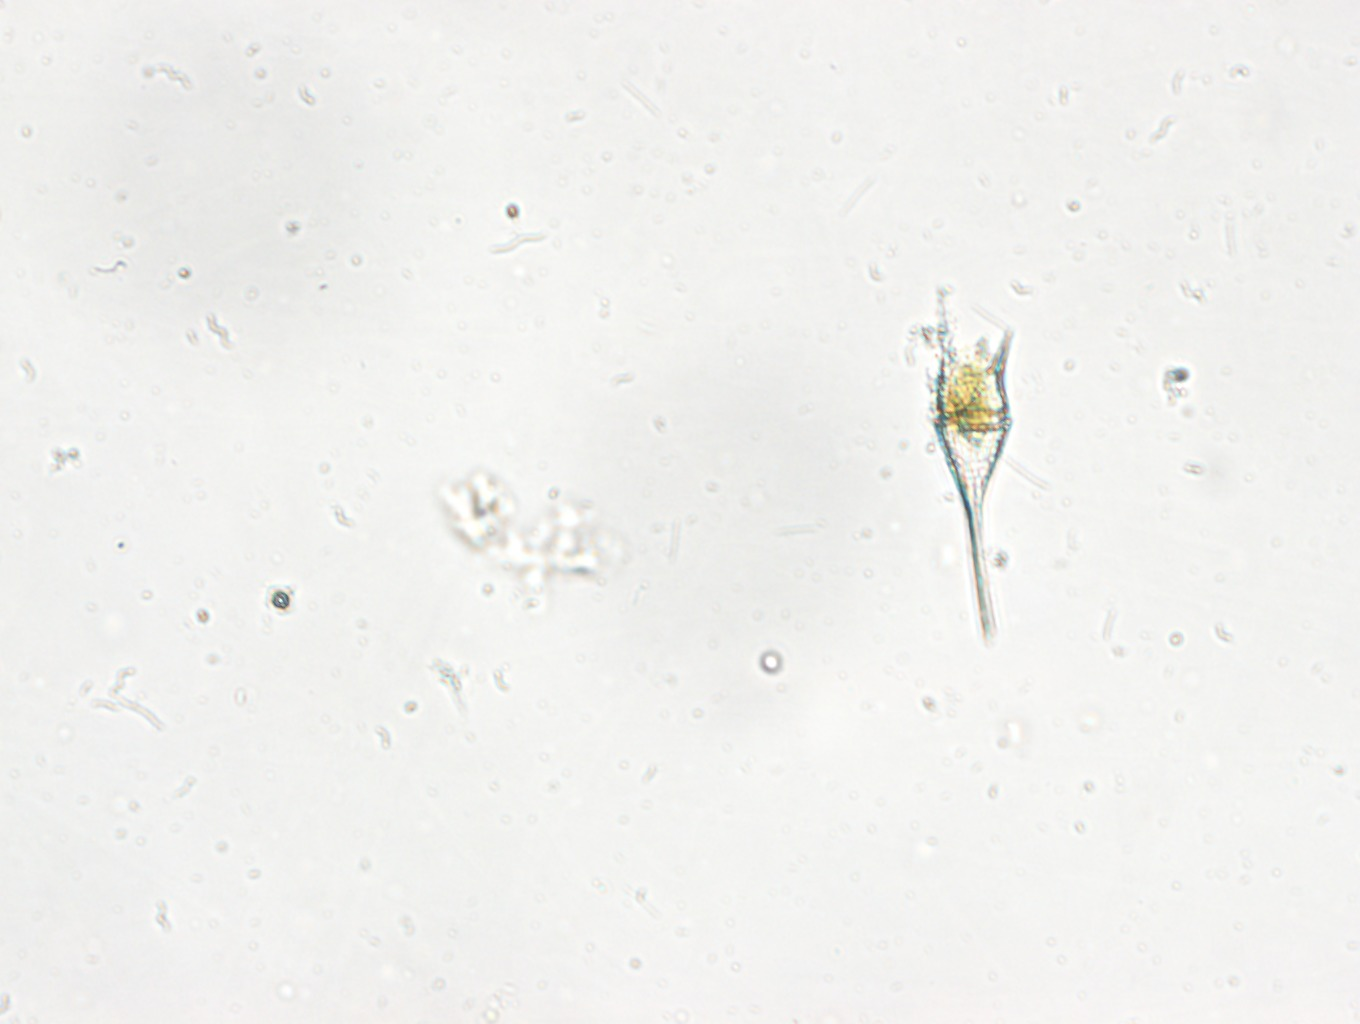ceratium furca: (926, 301, 1018, 649)
